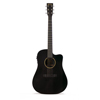guitar: (32, 2, 69, 95)
